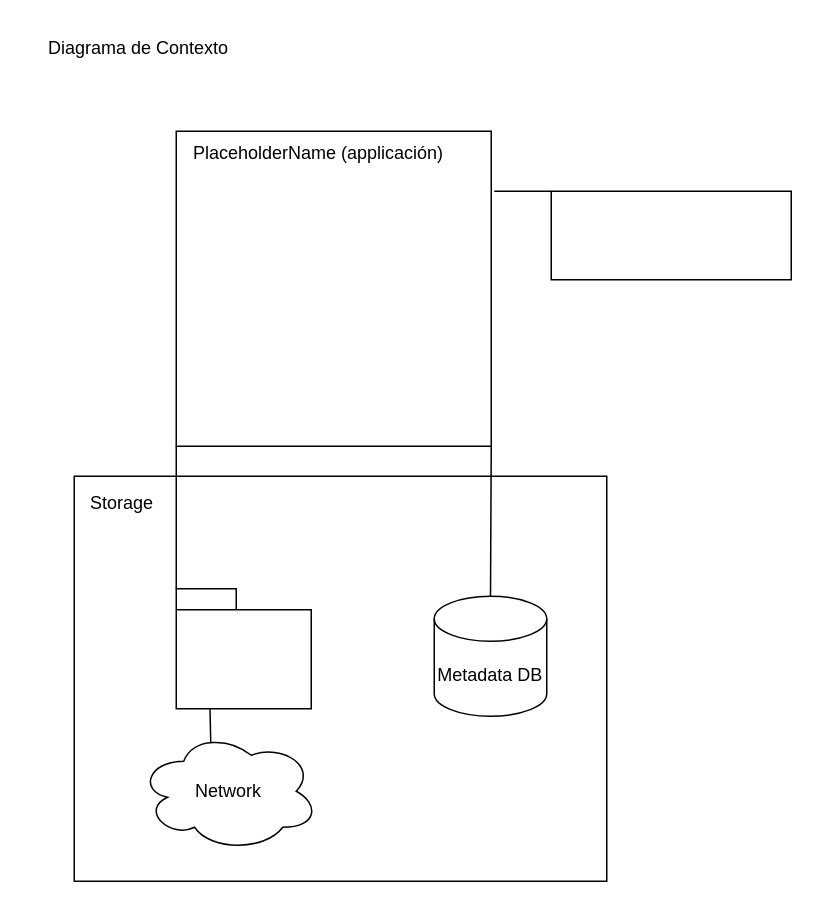
Image size: 818x908. Some labels were removed from this diagram. Here are the shapes that lost their labels. From the top down, the box of each, then its label:
(550, 190, 791, 280): External applications (pdf readers)
(175, 587, 311, 709): File System
